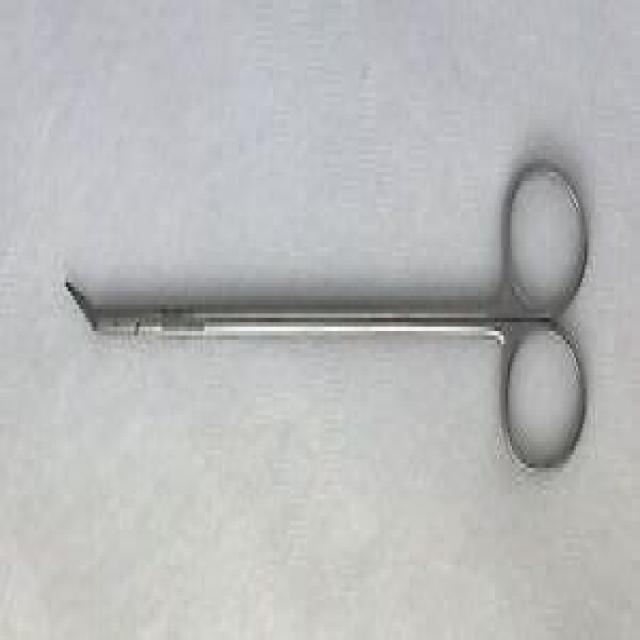Potts: (62, 146, 593, 482)
